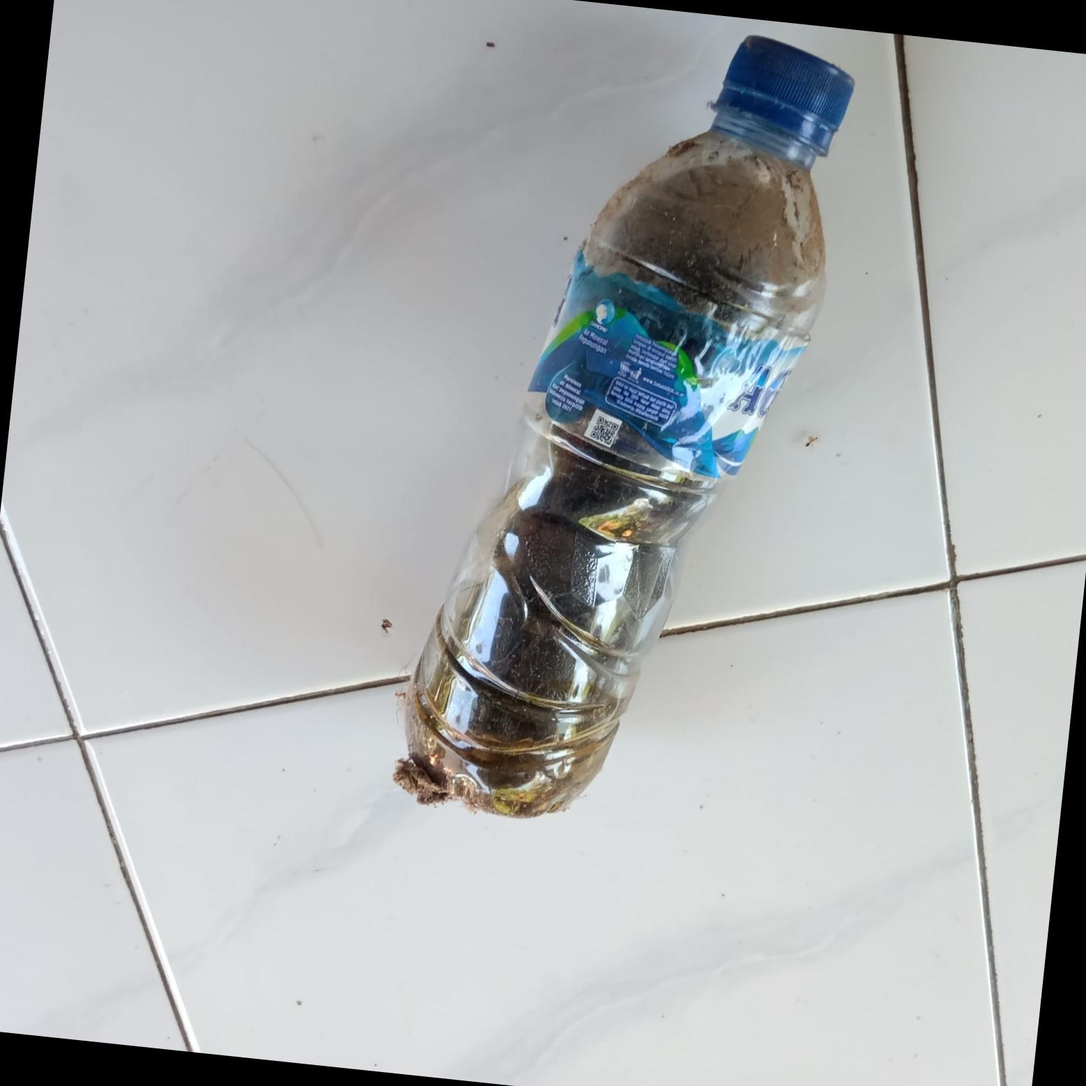Plastik: (398, 5, 861, 846)
